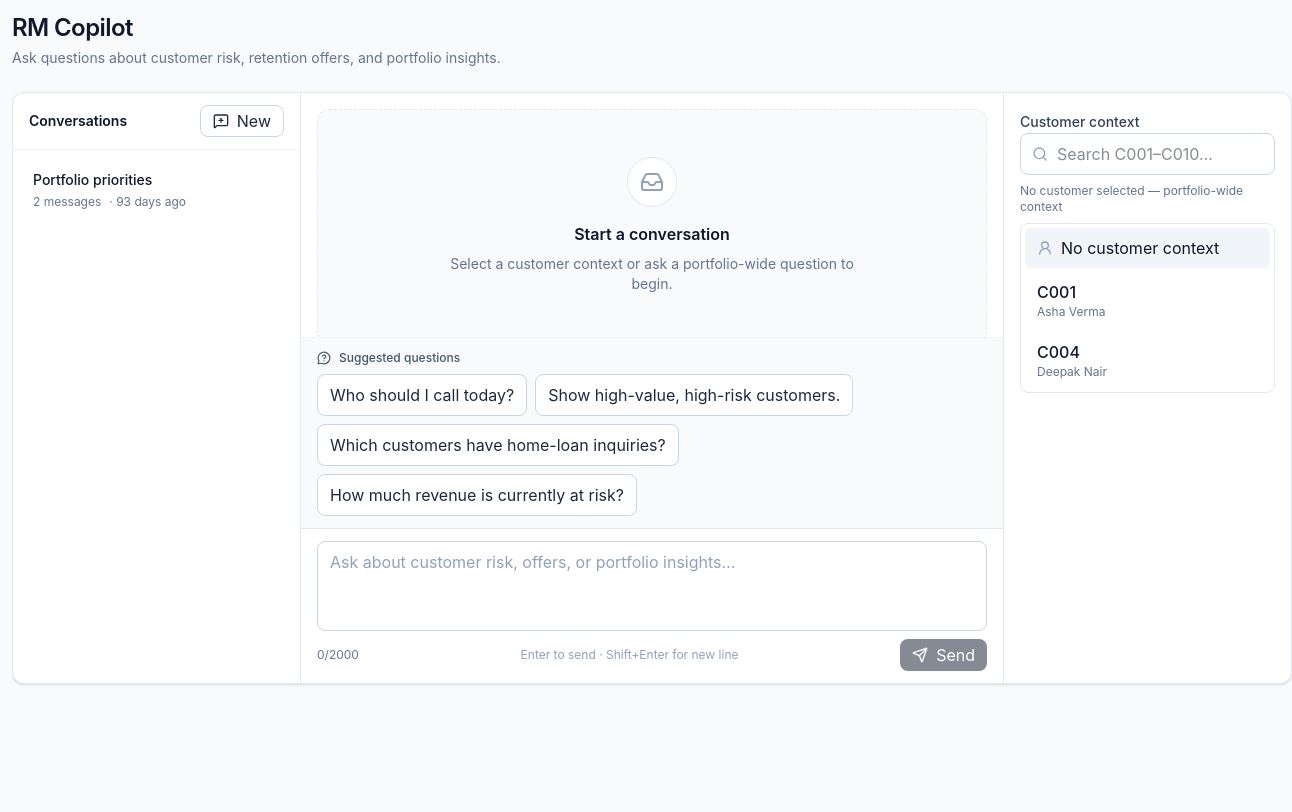
RM Copilot chat › selects customer context and shows C004 suggestions
Click the option "C004 Deepak Nair" at (1148,360), box [1025,332,1270,388]
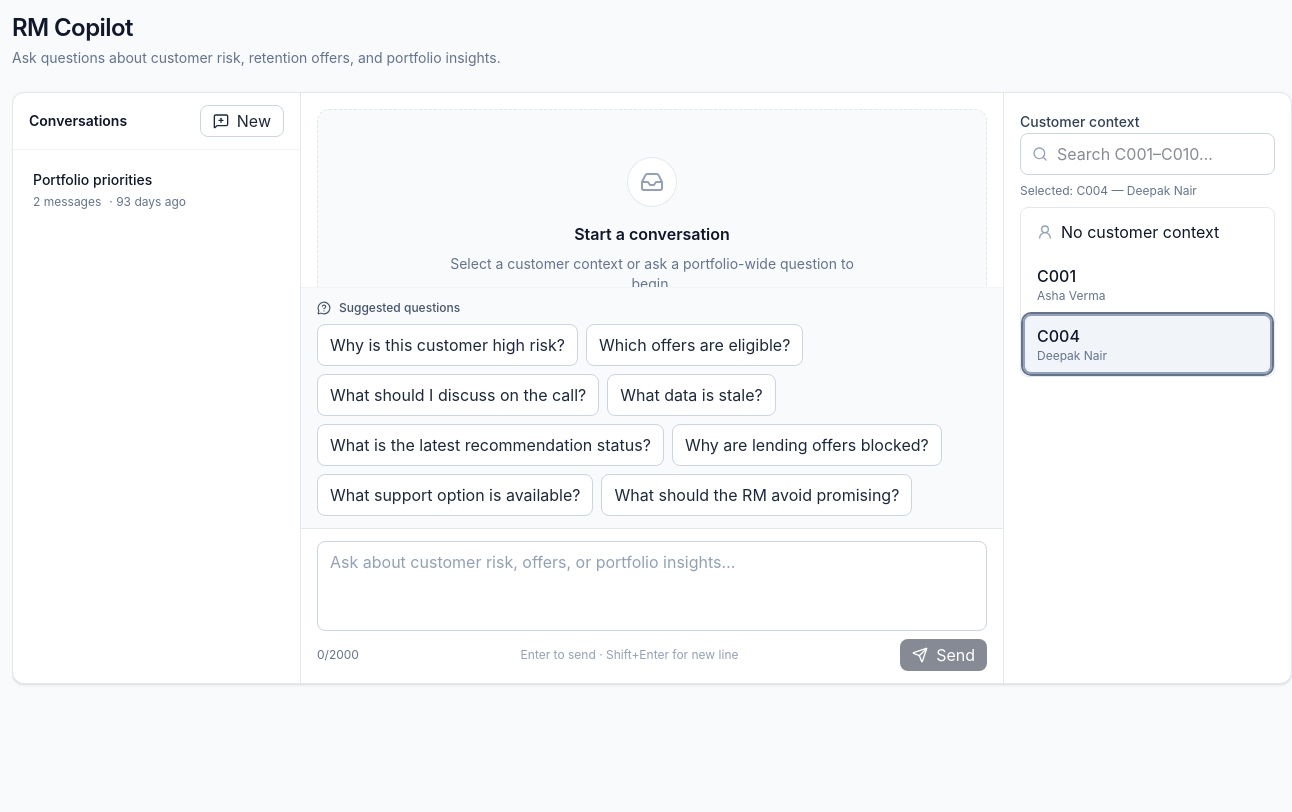
Check: the button "Why are lending offers blocked?" is shown, box [672,424,942,466]
Check: the button "What support option is available?" is shown, box [317,474,594,516]
Check: the button "What should the RM avoid promising?" is shown, box [602,474,912,516]
